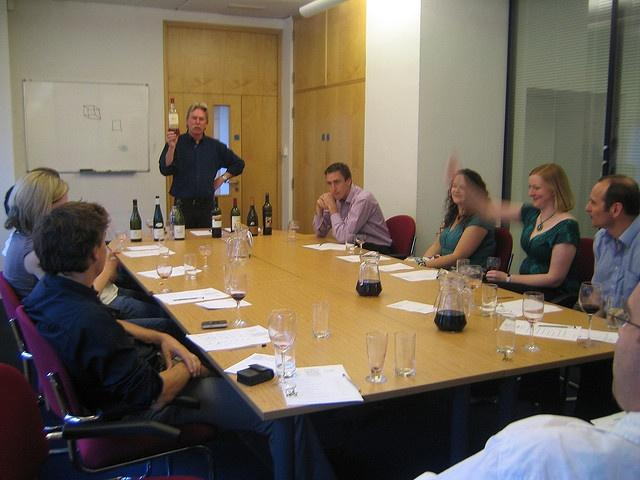Meja: (104, 225, 620, 431)
Whiteboard: (19, 77, 151, 175)
